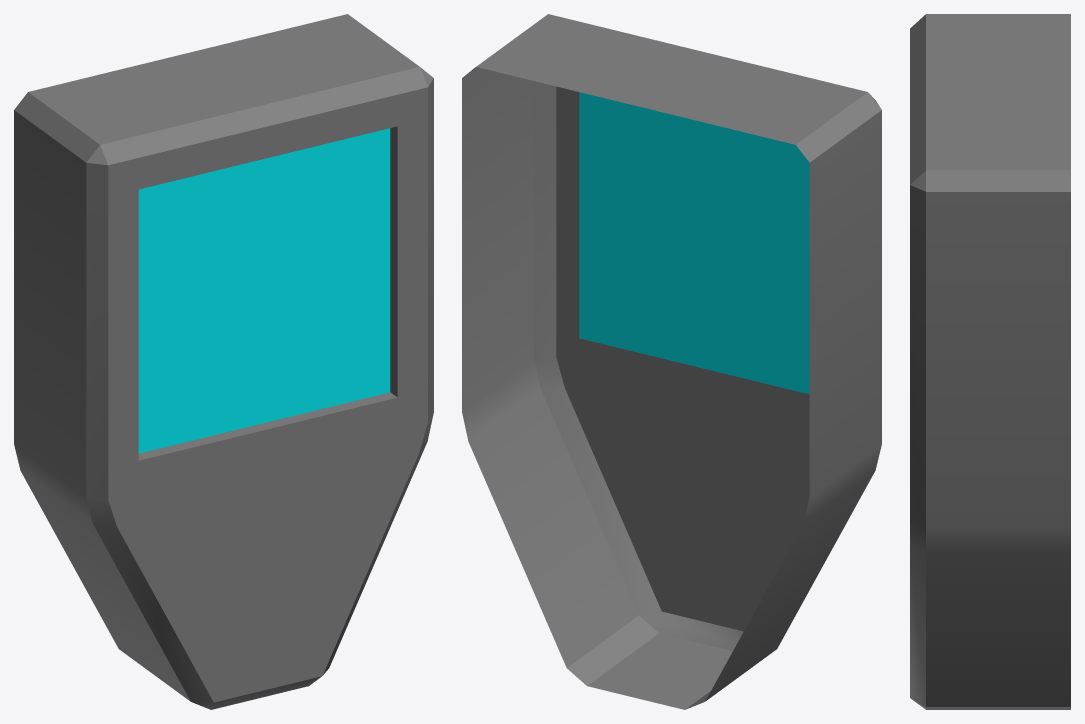
File: Light_3.fbx
The picture shows the model from 3 angles, left to right: view 1: azimuth 30°, elevation 25°; view 2: azimuth 150°, elevation 25°; view 3: azimuth 270°, elevation 25°; orthographic projection.
Visible parts, largest first — view 1: Light_3; view 2: Light_3; view 3: Light_3.
Boxes of the visible parts, x1,y1,x2,y2 form: Light_3: [14, 14, 433, 709]; Light_3: [462, 14, 881, 709]; Light_3: [910, 14, 1070, 709].
Bounding box in the file's own units: 0.25 × 0.1 × 0.4071.
